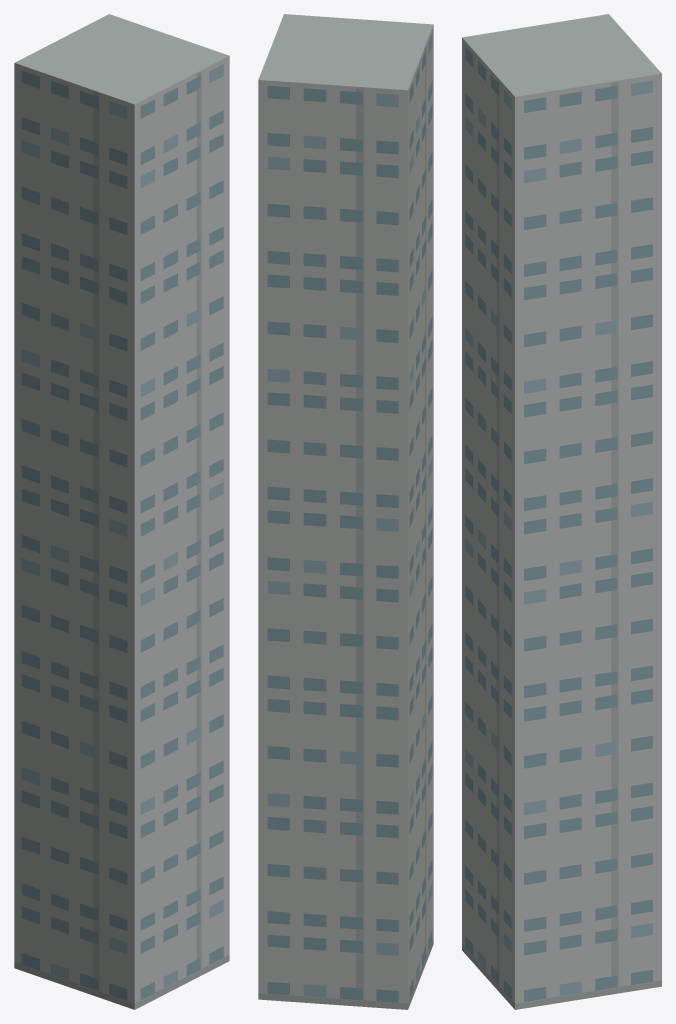
Rendered from residential-3f6f8c99-5bd8-408c-9a10-9da4b5582e8c.glb.
3 views of the same model, side by side, from view 1: azimuth 30°, elevation 25°; view 2: azimuth 150°, elevation 25°; view 3: azimuth 270°, elevation 25° (orthographic).
Parts seen in each view (by area): view 1: residential-3f6f8c99-5bd8-408c-9a10-9da4b5582e8c.tmp; view 2: residential-3f6f8c99-5bd8-408c-9a10-9da4b5582e8c.tmp; view 3: residential-3f6f8c99-5bd8-408c-9a10-9da4b5582e8c.tmp.
Part boxes in pixels (box(x1,y1,x2,y2)): residential-3f6f8c99-5bd8-408c-9a10-9da4b5582e8c.tmp: box(14, 14, 229, 1009); residential-3f6f8c99-5bd8-408c-9a10-9da4b5582e8c.tmp: box(258, 14, 433, 1009); residential-3f6f8c99-5bd8-408c-9a10-9da4b5582e8c.tmp: box(462, 14, 661, 1009).
Size of the model in its own units: 29.24 by 150 by 29.78.
